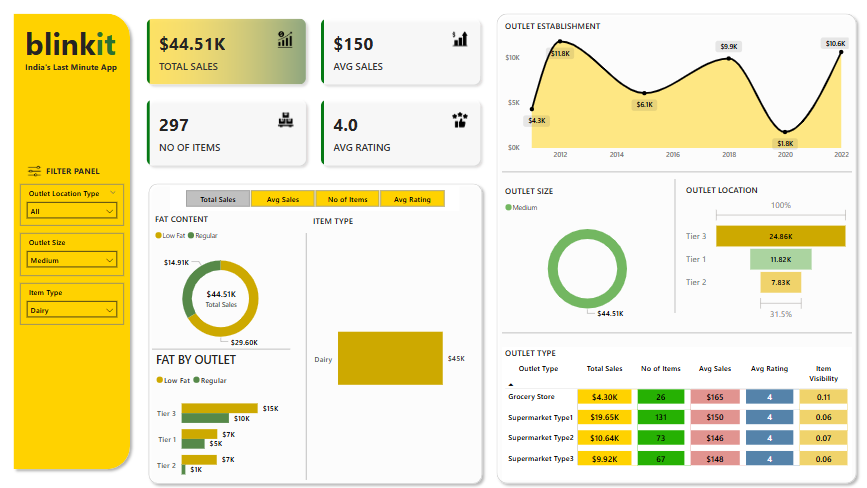

What the dashboard file says about the page in this screenshot:
{"tool":"powerbi","page":{"name":"Page 1","canvas":[1400,800],"ordinal":0},"visuals":[{"type":"shape","box":[16.1,27.3,205,750],"z":0},{"type":"textbox","box":[38.6,46.6,167.1,77.1],"z":1000},{"type":"textbox","box":[38.6,107.6,167.1,32.1],"z":2000},{"type":"cardVisual","fields":{"Data":["BlinkIT Grocery Data.Total Sales","BlinkIT Grocery Data.Avg Sales","BlinkIT Grocery Data.No of Items","BlinkIT Grocery Data.Avg Rating"]},"box":[221.5,27.7,570.8,270.8],"z":3000},{"type":"shape","box":[232.3,300,553.8,500],"z":4000},{"type":"donutChart","title":"FAT CONTENT","fields":{"Y":["BlinkIT Grocery Data.Total Sales"],"Category":["BlinkIT Grocery Data.Item Fat Content"]},"box":[247.7,356.9,220,230.8],"z":5000},{"type":"slicer","fields":{"Values":["Metrics.Metrics"]},"box":[276.9,313.8,464.6,40],"z":6000},{"type":"cardVisual","fields":{"Data":["BlinkIT Grocery Data.Total Sales"]},"box":[307.7,461.5,100,53.8],"z":7000},{"type":"clusteredBarChart","title":"FAT BY OUTLET","fields":{"Y":["BlinkIT Grocery Data.Total Sales"],"Category":["BlinkIT Grocery Data.Outlet Location Type"],"Series":["BlinkIT Grocery Data.Item Fat Content"]},"box":[249,579.9,220.1,220.1],"z":8000},{"type":"shape","box":[246.7,563.3,221.7,23.3],"z":9000},{"type":"shape","box":[480,388.3,30,396.7],"z":10000},{"type":"barChart","title":"ITEM TYPE","fields":{"Y":["BlinkIT Grocery Data.Total Sales"],"Category":["BlinkIT Grocery Data.Item Type"]},"box":[501.7,360,270,440],"z":11000},{"type":"shape","box":[792,27.3,596,772.7],"z":12000},{"type":"lineChart","title":"OUTLET ESTABLISHMENT","fields":{"Y":["BlinkIT Grocery Data.Total Sales"],"Category":["BlinkIT Grocery Data.Outlet Establishment Year"]},"box":[809.6,46.6,562.2,234.5],"z":13000},{"type":"shape","box":[809.6,279.5,562.2,22.5],"z":14000},{"type":"donutChart","title":"OUTLET SIZE","fields":{"Y":["BlinkIT Grocery Data.Total Sales"],"Category":["BlinkIT Grocery Data.Outlet Size"]},"box":[809.6,311.6,274.7,224.9],"z":15000},{"type":"shape","box":[1074.7,302,25.7,215.3],"z":16000},{"type":"funnel","title":"OUTLET LOCATION","fields":{"Y":["Sum(BlinkIT Grocery Data.Sales)"],"Category":["BlinkIT Grocery Data.Outlet Location Type"]},"box":[1100.4,310,271.5,224.9],"z":17000},{"type":"shape","box":[809.6,538.2,562.2,22.5],"z":18000},{"type":"pivotTable","title":"OUTLET TYPE","fields":{"Rows":["BlinkIT Grocery Data.Outlet Type"],"Values":["BlinkIT Grocery Data.Total Sales","BlinkIT Grocery Data.No of Items","BlinkIT Grocery Data.Avg Sales","BlinkIT Grocery Data.Avg Rating","Avg(BlinkIT Grocery Data.Item Visibility)"]},"box":[809.6,571.9,562.2,213.7],"z":19000},{"type":"slicer","fields":{"Values":["BlinkIT Grocery Data.Outlet Location Type"]},"box":[35.3,310,167.1,67.5],"z":20000},{"type":"slicer","fields":{"Values":["BlinkIT Grocery Data.Outlet Size"]},"box":[35.3,388.8,167.1,69.1],"z":21000},{"type":"slicer","fields":{"Values":["BlinkIT Grocery Data.Item Type"]},"box":[35.3,469.1,167.1,67.5],"z":22000},{"type":"textbox","box":[72.3,274.7,109.2,30.5],"z":23000},{"type":"image","box":[38.6,269.9,40.2,38.6],"z":24000}]}

Visuals, with their boxes in screenshot pixels (x1, y1, x2, y2), scaled from the page's 1400x800 canvas onto the 867x488 screenshot:
shape: (left=10, top=17, right=137, bottom=474)
textbox: (left=24, top=28, right=127, bottom=75)
textbox: (left=24, top=66, right=127, bottom=85)
cardVisual - BlinkIT Grocery Data.Total Sales x BlinkIT Grocery Data.Avg Sales: (left=137, top=17, right=491, bottom=182)
shape: (left=144, top=183, right=487, bottom=487)
"FAT CONTENT" donutChart: (left=153, top=218, right=290, bottom=358)
slicer - Metrics.Metrics: (left=171, top=191, right=459, bottom=216)
cardVisual - BlinkIT Grocery Data.Total Sales: (left=191, top=282, right=252, bottom=314)
"FAT BY OUTLET" clusteredBarChart: (left=154, top=354, right=291, bottom=487)
shape: (left=153, top=344, right=290, bottom=358)
shape: (left=297, top=237, right=316, bottom=479)
"ITEM TYPE" barChart: (left=311, top=220, right=478, bottom=487)
shape: (left=490, top=17, right=860, bottom=487)
"OUTLET ESTABLISHMENT" lineChart: (left=501, top=28, right=850, bottom=171)
shape: (left=501, top=170, right=850, bottom=184)
"OUTLET SIZE" donutChart: (left=501, top=190, right=671, bottom=327)
shape: (left=666, top=184, right=681, bottom=316)
"OUTLET LOCATION" funnel: (left=681, top=189, right=850, bottom=326)
shape: (left=501, top=328, right=850, bottom=342)
"OUTLET TYPE" pivotTable: (left=501, top=349, right=850, bottom=479)
slicer - BlinkIT Grocery Data.Outlet Location Type: (left=22, top=189, right=125, bottom=230)
slicer - BlinkIT Grocery Data.Outlet Size: (left=22, top=237, right=125, bottom=279)
slicer - BlinkIT Grocery Data.Item Type: (left=22, top=286, right=125, bottom=327)
textbox: (left=45, top=168, right=112, bottom=186)
image: (left=24, top=165, right=49, bottom=188)
